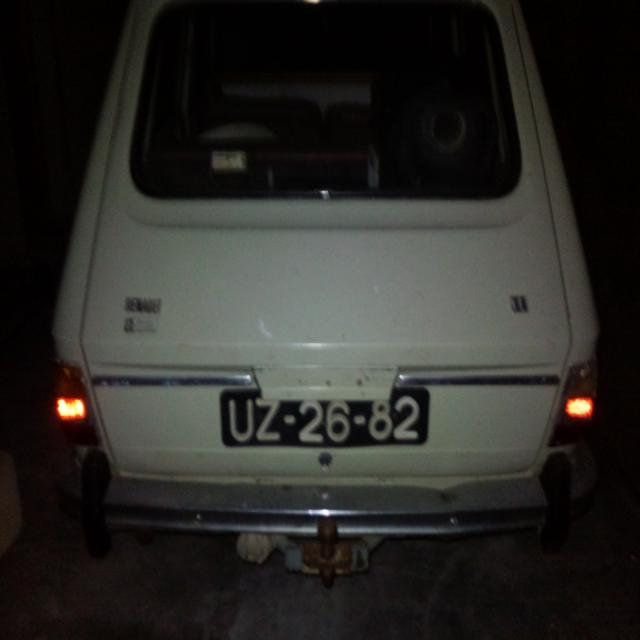portuguese-license-plates: (220, 391, 429, 445)
